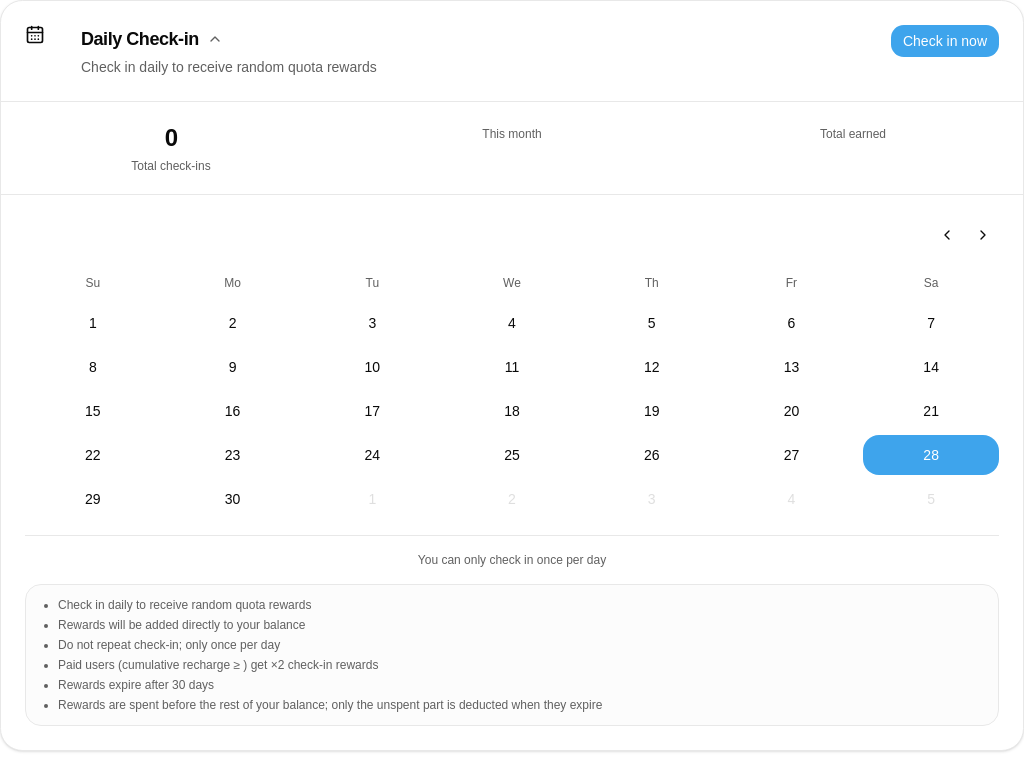
Test: check-in reward result › a free check-in shows no multiplier badge
Click the button "Check in now". click: (945, 41)
box: left=891, top=25, right=999, bottom=57
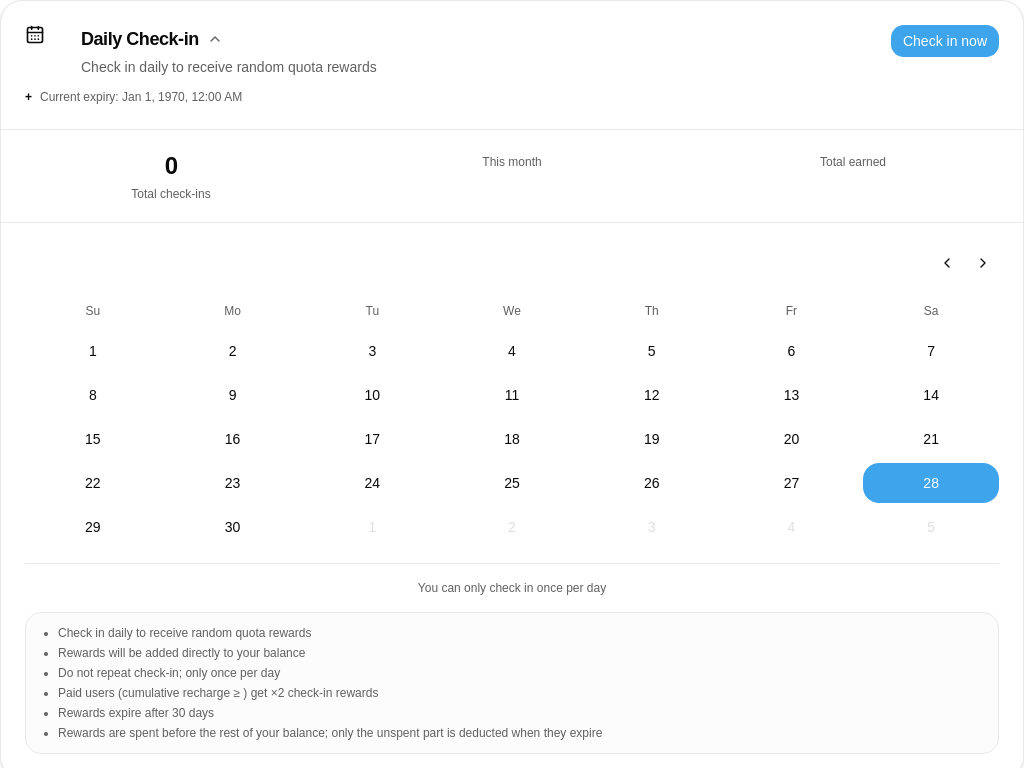
Expected: the text "Current expiry: Jan 1, 1970, 12:00 AM" is shown, left=40, top=89, right=242, bottom=105
